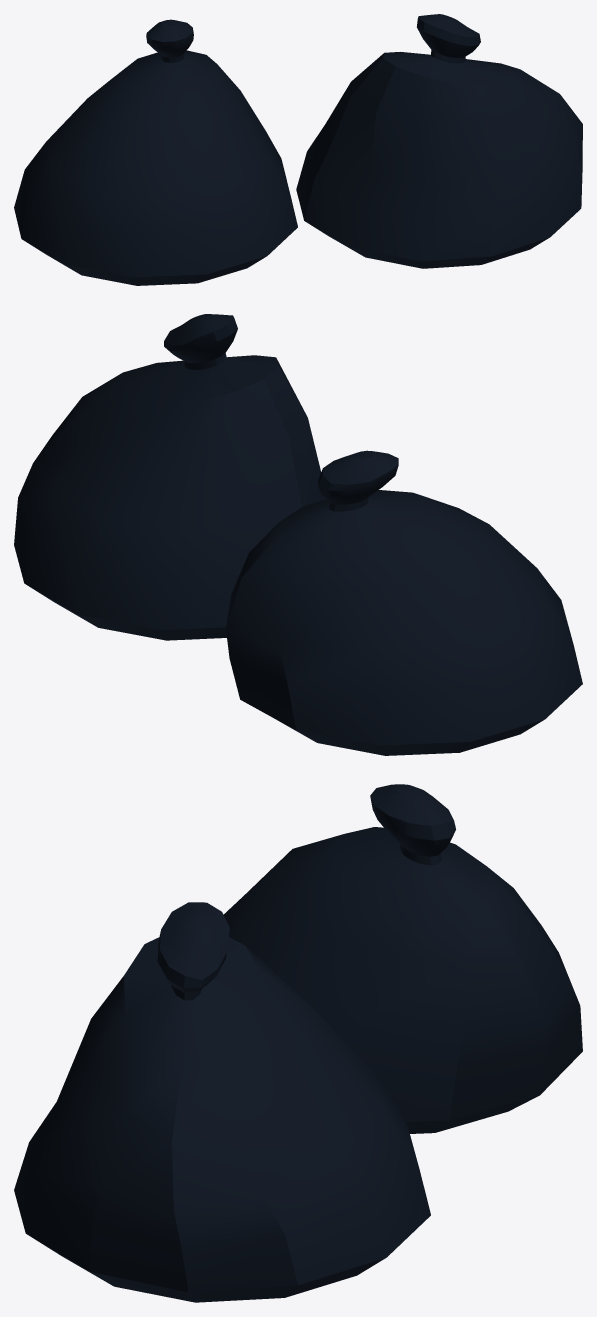
Rendered from trash-bags.fbx.
3 renders of one model, top to bottom at view 1: azimuth 30°, elevation 25°; view 2: azimuth 150°, elevation 25°; view 3: azimuth 270°, elevation 25°, orthographic. The views are drawn at different scales.
Visible parts, largest first — view 1: Trash Bags 2, Trash Bags 1; view 2: Trash Bags 1, Trash Bags 2; view 3: Trash Bags 2, Trash Bags 1.
Part boxes in pixels (<box>): Trash Bags 2: <box>296,14,582,268</box>; Trash Bags 1: <box>14,19,297,285</box>; Trash Bags 1: <box>226,450,582,755</box>; Trash Bags 2: <box>14,314,325,640</box>; Trash Bags 2: <box>14,902,430,1302</box>; Trash Bags 1: <box>223,784,582,1133</box>.
Size of the model in its own units: 1.44 by 0.6075 by 1.
